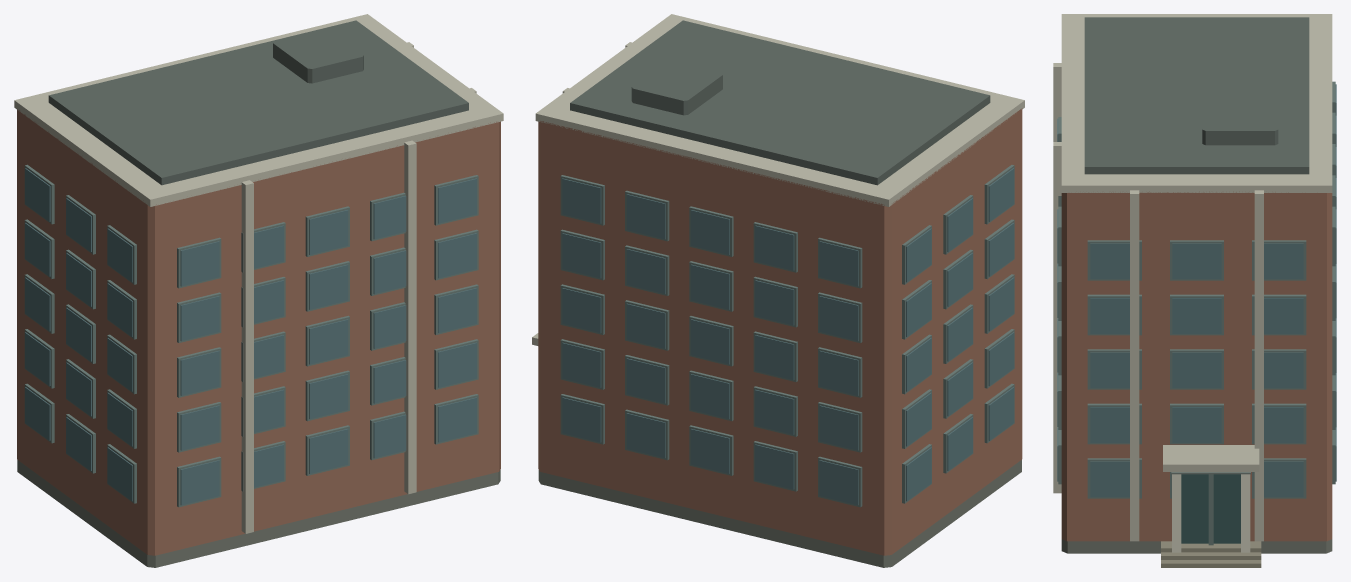
3 views of the same model, side by side, from view 1: azimuth 30°, elevation 25°; view 2: azimuth 150°, elevation 25°; view 3: azimuth 270°, elevation 25° (orthographic).
Parts seen in each view (by area): view 1: form, glaze, relief, glowing; view 2: form, glaze, relief, glowing; view 3: form, glaze, relief, glowing.
Boxes of the visible parts, box(x1,y1,x2,y2) form: form: box(14, 14, 503, 567); glaze: box(25, 168, 476, 505); relief: box(24, 164, 478, 507); glowing: box(107, 319, 348, 391); form: box(532, 14, 1024, 567); glaze: box(562, 168, 1014, 505); relief: box(560, 165, 1014, 507); glowing: box(690, 277, 1014, 364); form: box(1053, 14, 1332, 567); glaze: box(1057, 84, 1336, 543); relief: box(1058, 81, 1335, 552); glowing: box(1264, 352, 1303, 388).
Bounding box in the file's own units: 13.54 × 12.71 × 8.37.
